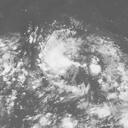cyclone: (37, 29, 82, 82)
